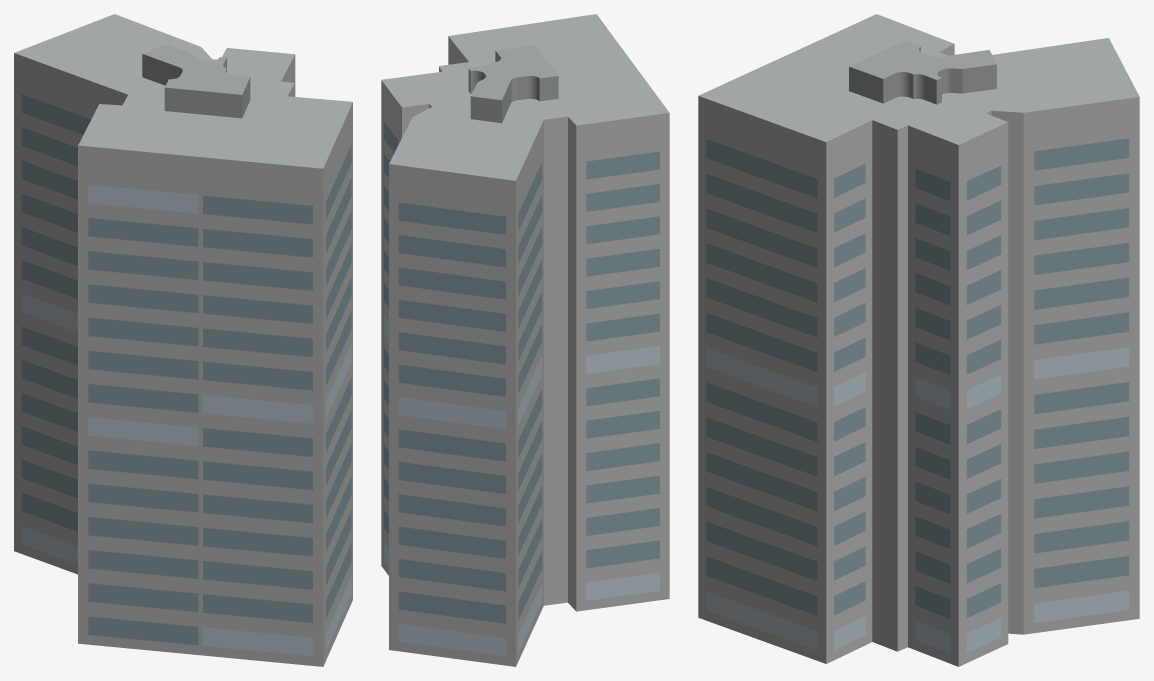
File: fallback-godeok-central-ipark-completion-504.glb
The picture shows the model from 3 angles, left to right: view 1: azimuth 30°, elevation 25°; view 2: azimuth 150°, elevation 25°; view 3: azimuth 270°, elevation 25°; orthographic projection. The views are drawn at different scales.
Parts seen in each view (by area): view 1: fallback-godeok-central-ipark-completion-504; view 2: fallback-godeok-central-ipark-completion-504; view 3: fallback-godeok-central-ipark-completion-504.
Boxes of the visible parts, x1,y1,x2,y2 form: fallback-godeok-central-ipark-completion-504: [14, 14, 352, 666]; fallback-godeok-central-ipark-completion-504: [381, 14, 669, 666]; fallback-godeok-central-ipark-completion-504: [698, 14, 1139, 666].
Bounding box in the file's own units: 23.15 × 45 × 32.95.
